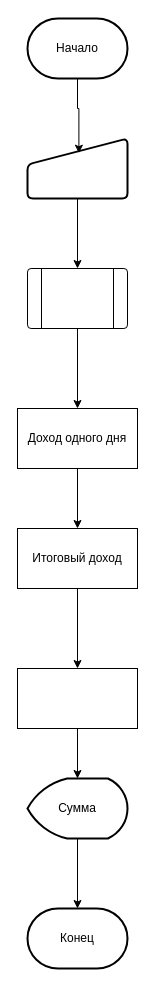
The diagram is 155 pixels wide and 986 high, and some of its shapes have lost their labels. The box of each missing label's shape, as (x1, y1, x2, y2) in pixels:
Получить Банковский % ДСЧ: (26, 268, 128, 328)
Сумма = сумма + итоговый доход: (16, 668, 138, 728)
Сумма Срок: (26, 137, 128, 199)
